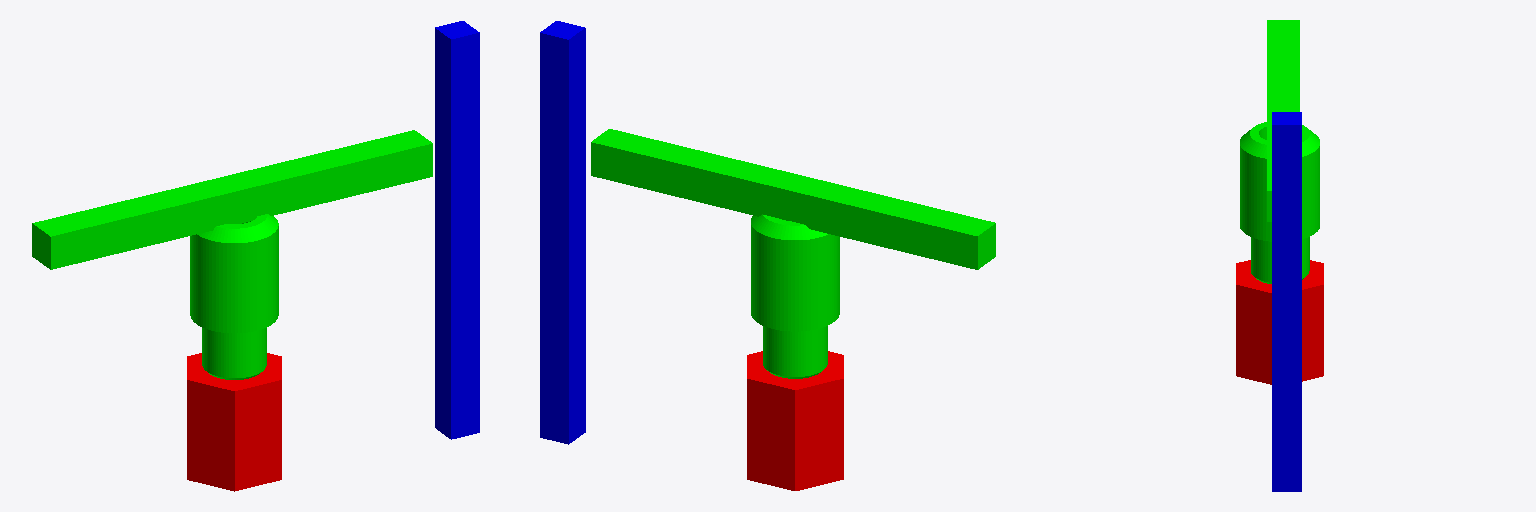
URDF robot description (RPP_Robot.stl):
<?xml version="1.0"?>
<robot name="RPP_Robot.stl">
 <material name="red">
    <color rgba="1 0 0 0.8" />
  </material>
  <material name="green">
    <color rgba="0 1 0 0.8" />
  </material>
<material name="blue">
    <color rgba="0 0 1 0.8" />
  </material>
<material name="yellow">
    <color rgba="1 1 0 0.8" />
  </material>



<link name="base" />
  <link name="silindir">
    <visual>
      <geometry>
       <mesh filename="hexagon-cylinder.stl"/>
      </geometry>
        <origin xyz="-1.5 -1.4 0" />
      <material name="red" />
    </visual>
  </link>
  <link name="silindir1">
    <visual>
      <geometry>
         <mesh filename="part-studio-11.stl"/>
      </geometry>
      <origin xyz="1.2 -1.3 0 " rpy="0 0 1.5708"/>
      <material name="green" />
    </visual>
  </link>
<link name="prizma">
    <visual>
      <geometry>
       <box size="12 1 1" />
      </geometry>
     
      <material name="green" />
    </visual>
  </link>

<link name="kutu">
    <visual>
      <geometry>
       <mesh filename="holed-cube.stl"/>
      </geometry>
      <material name="yellow" />
       <origin xyz="-0.2 -1.2 -0.8" />
    </visual>
  </link>

<link name="end">
    <visual>
      <geometry>
       <box size=" 0.9 0.9 12" />
      </geometry>
      <origin xyz="1.1 0.1 -1 " />
      <material name="blue" />
    </visual>
  </link>

  <joint name="j1" type="continuous">
    <parent link="base" />
    <child link="silindir" />
    <axis xyz="0 0 1" />
  </joint>
  
  <joint name="j2" type="fixed">
    <parent link="silindir" />
    <child link="silindir1" />
    <origin xyz="0 0 3" />
    
  </joint>

<joint name="j4" type="prismatic">
    <parent link="silindir1" />
    <child link="prizma" />
 <origin xyz="0 0 5" />
<limit effort="30" velocity="1.0" lower="-2.2" upper="5" />
<axis xyz="1 0 0" />

  </joint>
  <joint name="j5" type="fixed">
    <parent link="prizma" />
    <child link="kutu" />
 <origin xyz="6 0 -0.6" />

  </joint>
<joint name="j6" type="prismatic">
    <parent link="kutu" />
    <child link="end" />
<limit effort="30" velocity="1.0" lower="-2.2" upper="5" />
 <origin xyz="0 0 -1" />
<axis xyz="0 0 1" />
  </joint>
  

</robot>

--- Facts derived from the render (not from the file) ---
Views: 3 orthographic renders of the robot side by side, from view 1: azimuth 30°, elevation 25°; view 2: azimuth 150°, elevation 25°; view 3: azimuth 270°, elevation 25°.
Model RPP_Robot.stl with 6 links and 5 joints (1 continuous, 2 prismatic, 2 fixed), rooted at base, posed all joints at 0.
Links seen in each view (by area): view 1: prizma, end, silindir1, silindir; view 2: prizma, end, silindir1, silindir; view 3: end, silindir, silindir1, prizma.
Boxes of the visible links, x1,y1,x2,y2 form: prizma: (32,130,432,269); end: (435,21,479,439); silindir1: (190,214,278,379); silindir: (187,353,281,491); prizma: (591,129,995,269); end: (540,21,585,444); silindir1: (751,214,839,378); silindir: (747,351,843,490); end: (1272,112,1301,491); silindir: (1236,260,1323,384); silindir1: (1240,122,1319,283); prizma: (1267,20,1299,221).
Size in the robot's own frame: 13.55 by 2.6 by 12 metres.
2 mesh visuals loaded from 3 distinct referenced files (2 ASCII STL); not drawn: 1 (reference not matched to a file when rendering).
